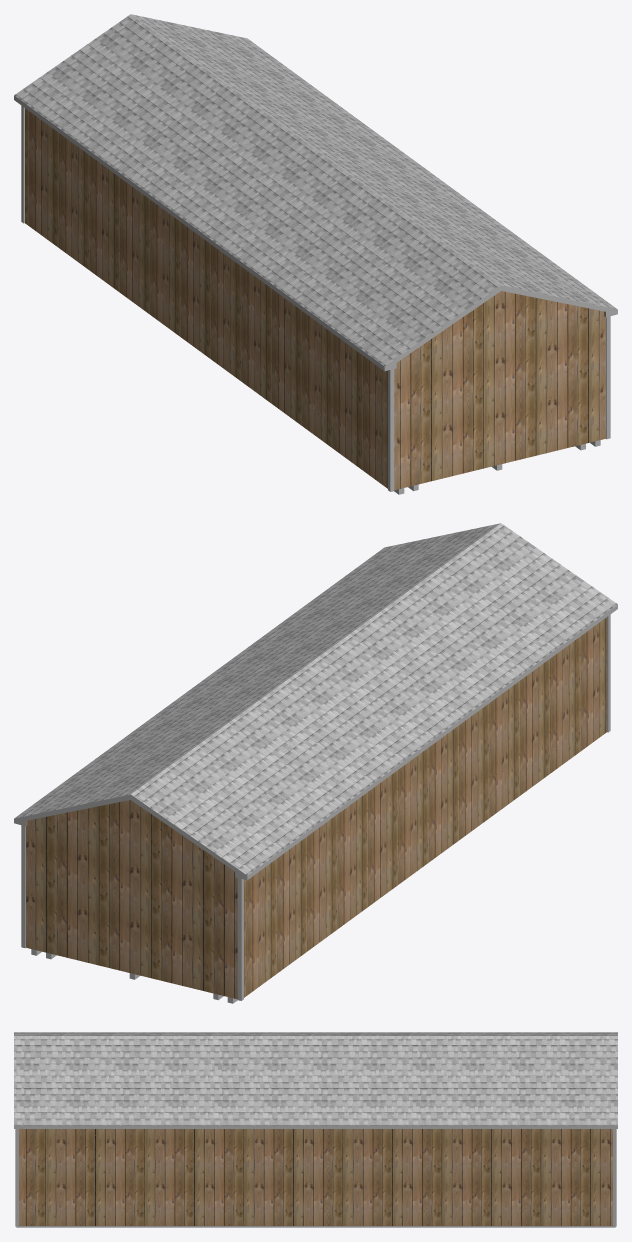
File: Single Garage A-frame_14x40.obj
3 views of the same model, one above another, from view 1: azimuth 30°, elevation 25°; view 2: azimuth 150°, elevation 25°; view 3: azimuth 270°, elevation 25° (orthographic). The views are drawn at different scales.
Visible parts, largest first — view 1: Roof, Shed, Sides, Trim; view 2: Roof, Shed, Sides, Trim; view 3: Shed, Roof, Sides, Floor, Trim.
Boxes of the visible parts, bbox=[...] form: Roof: bbox=[14, 14, 617, 366]; Shed: bbox=[25, 108, 605, 490]; Sides: bbox=[14, 95, 617, 371]; Trim: bbox=[21, 105, 610, 491]; Roof: bbox=[14, 523, 617, 875]; Shed: bbox=[26, 617, 606, 999]; Sides: bbox=[14, 604, 617, 880]; Trim: bbox=[21, 614, 610, 1000]; Shed: bbox=[19, 1129, 612, 1225]; Roof: bbox=[14, 1032, 617, 1125]; Sides: bbox=[14, 1125, 617, 1128]; Floor: bbox=[16, 1226, 615, 1227]; Trim: bbox=[15, 1129, 616, 1226].
Size of the model in its own units: 4.47 by 3.4 by 12.29.
